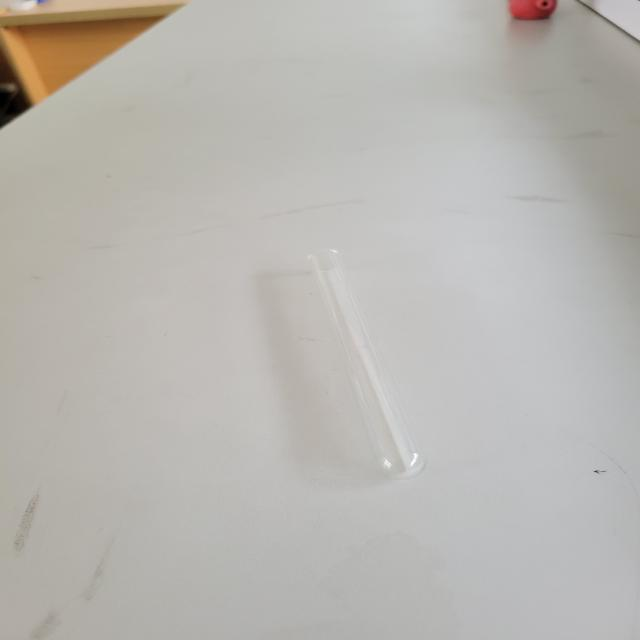Test_Tube: (276, 182, 452, 509)
